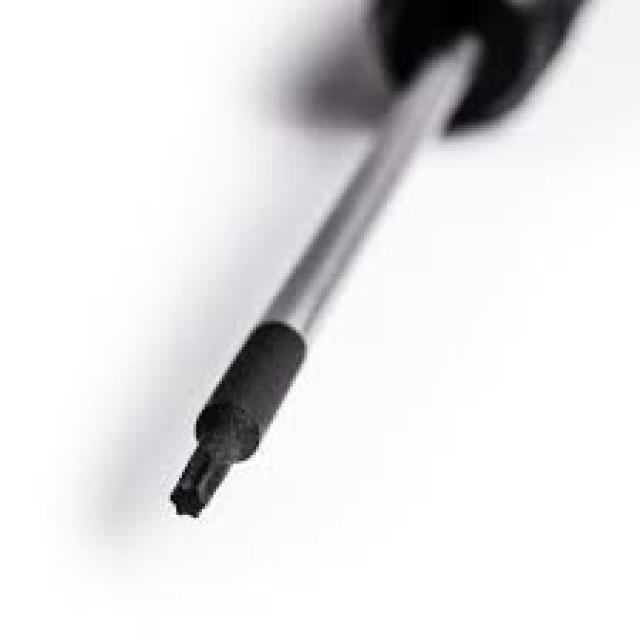screw driver: (85, 102, 583, 640)
